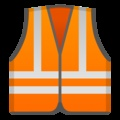safety vest: (10, 5, 110, 115)
